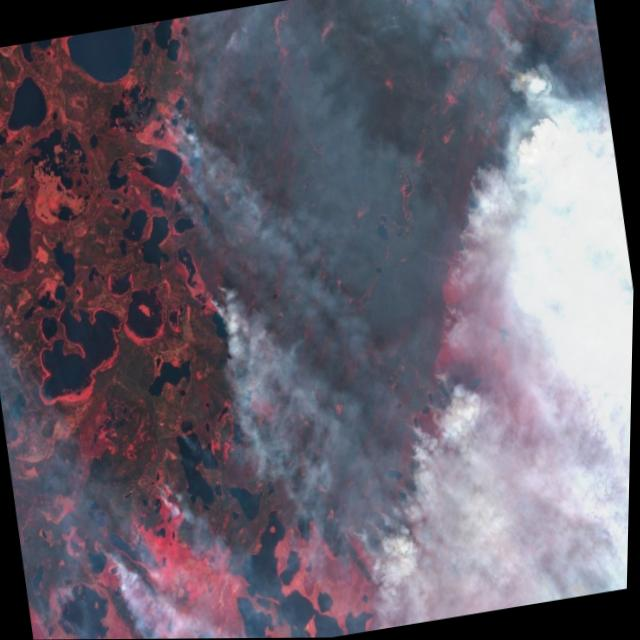fire: (17, 0, 627, 640)
